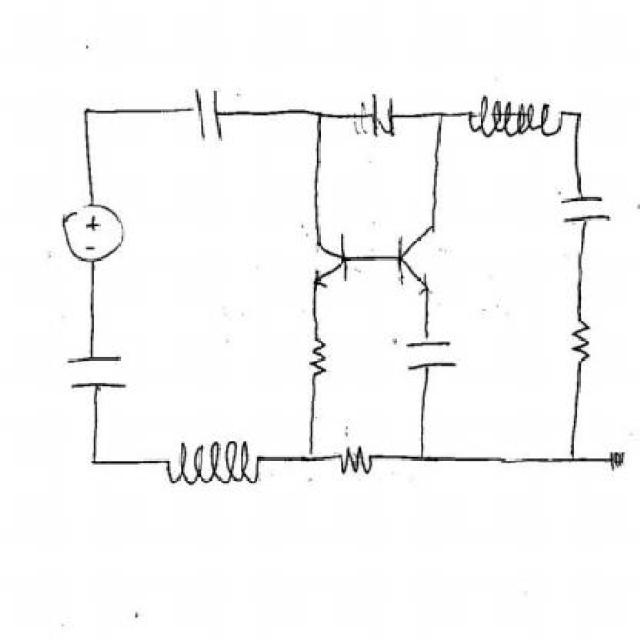capacitor: (400, 322, 470, 386), (60, 344, 138, 401), (357, 84, 418, 148), (179, 89, 235, 140), (559, 190, 617, 232)
ground: (603, 436, 632, 490)
inductor: (163, 436, 267, 495), (462, 93, 573, 140)
resistor: (328, 432, 393, 484), (301, 318, 340, 389), (561, 311, 600, 369)
transistor: (394, 210, 453, 302), (308, 229, 356, 297)
voltage_source: (54, 194, 132, 269)
